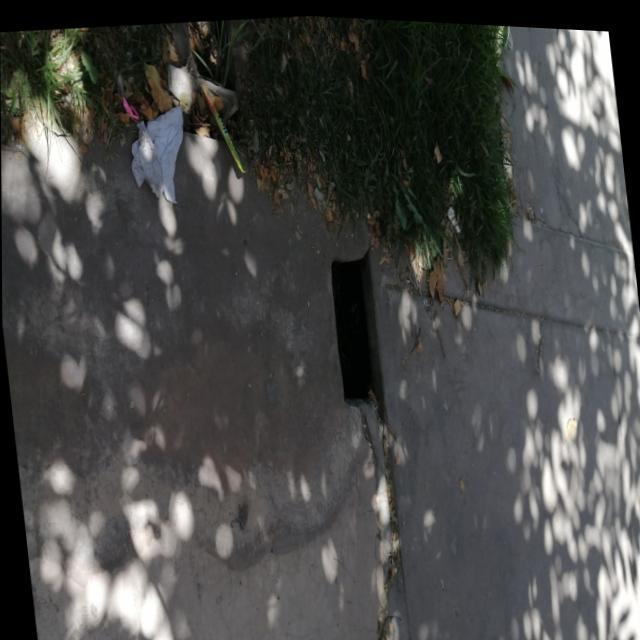hole: (329, 250, 386, 416)
